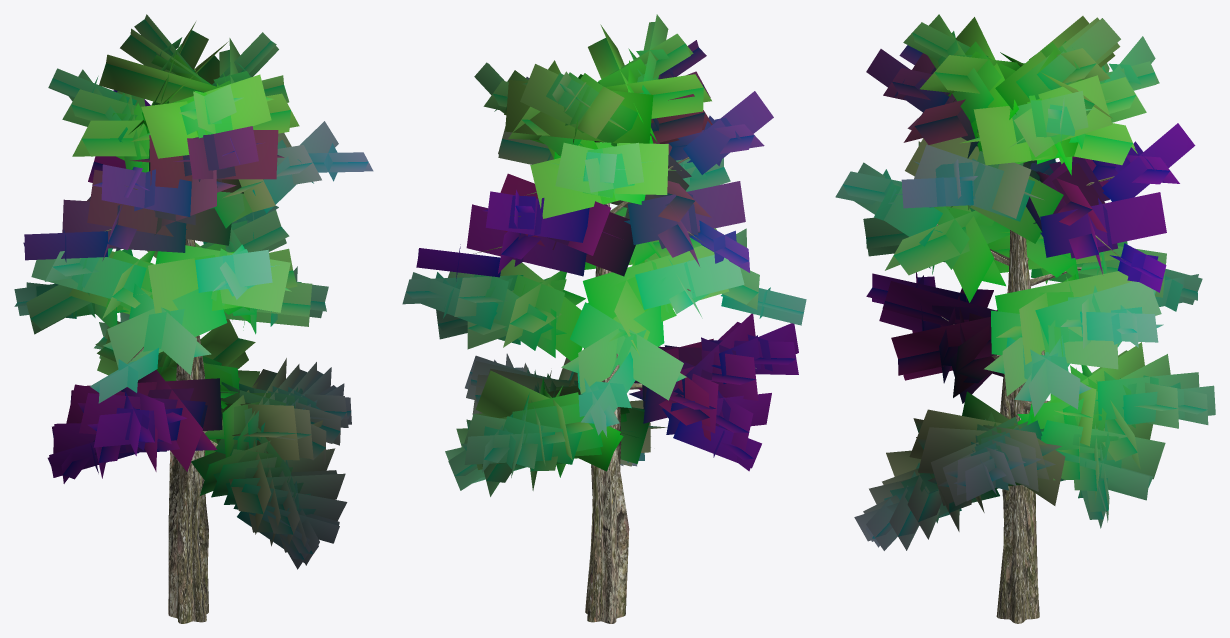
File: arvore_folha_verdinho_2.fbx
3 renders of one model, left to right at view 1: azimuth 30°, elevation 25°; view 2: azimuth 150°, elevation 25°; view 3: azimuth 270°, elevation 25°, orthographic. The views are drawn at different scales.
Visible parts, largest first — view 1: branch08_1, mossybark03_0; view 2: branch08_1, mossybark03_0; view 3: branch08_1, mossybark03_0.
Part boxes in pixels (x1,y1,x2,y2): branch08_1: (14, 14, 373, 569); mossybark03_0: (104, 186, 217, 623); branch08_1: (402, 14, 806, 496); mossybark03_0: (473, 141, 756, 623); branch08_1: (835, 14, 1215, 550); mossybark03_0: (936, 176, 1125, 623).
Size of the model in its own units: 438 by 801 by 464.
